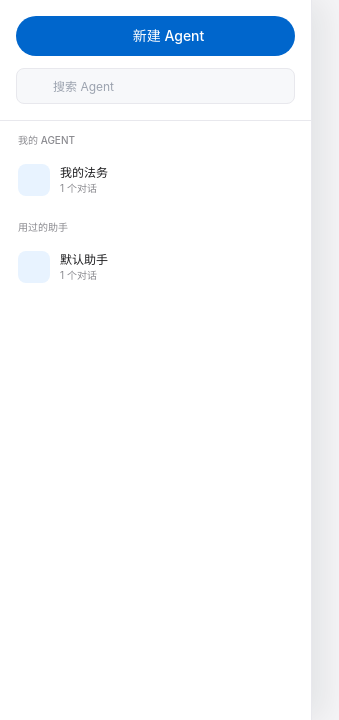
Scenario: AgentRail 两个面板互切 › agentId 为空的老对话算默认助手的
Click the text "默认助手".
click(84, 259)  # box [60,252,108,266]
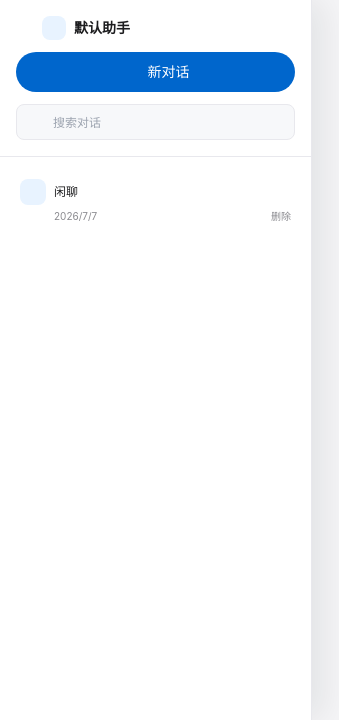
Now the text "闲聊" is shown, box [54,184,78,199]
